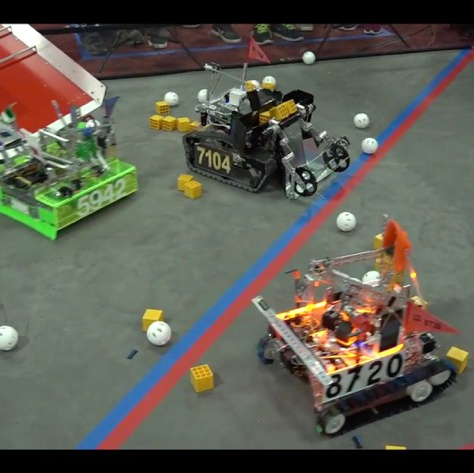robot: (251, 211, 466, 441), (179, 57, 355, 202), (0, 88, 142, 241)
